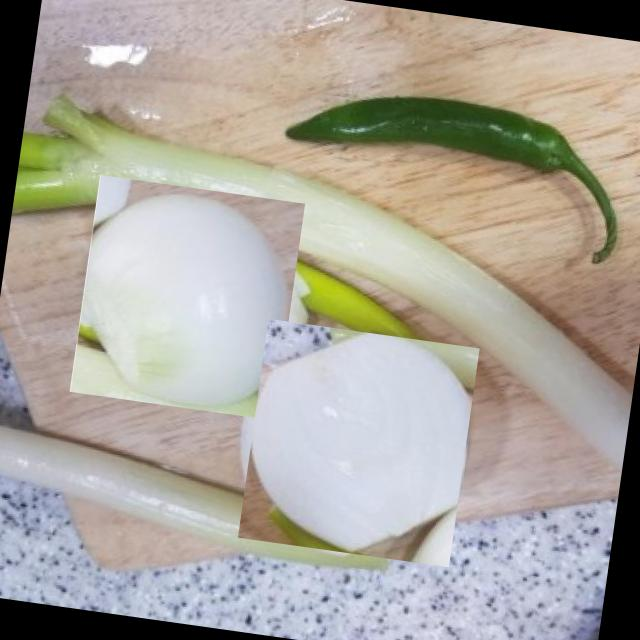Onion: (237, 318, 480, 568), (70, 175, 306, 422)
